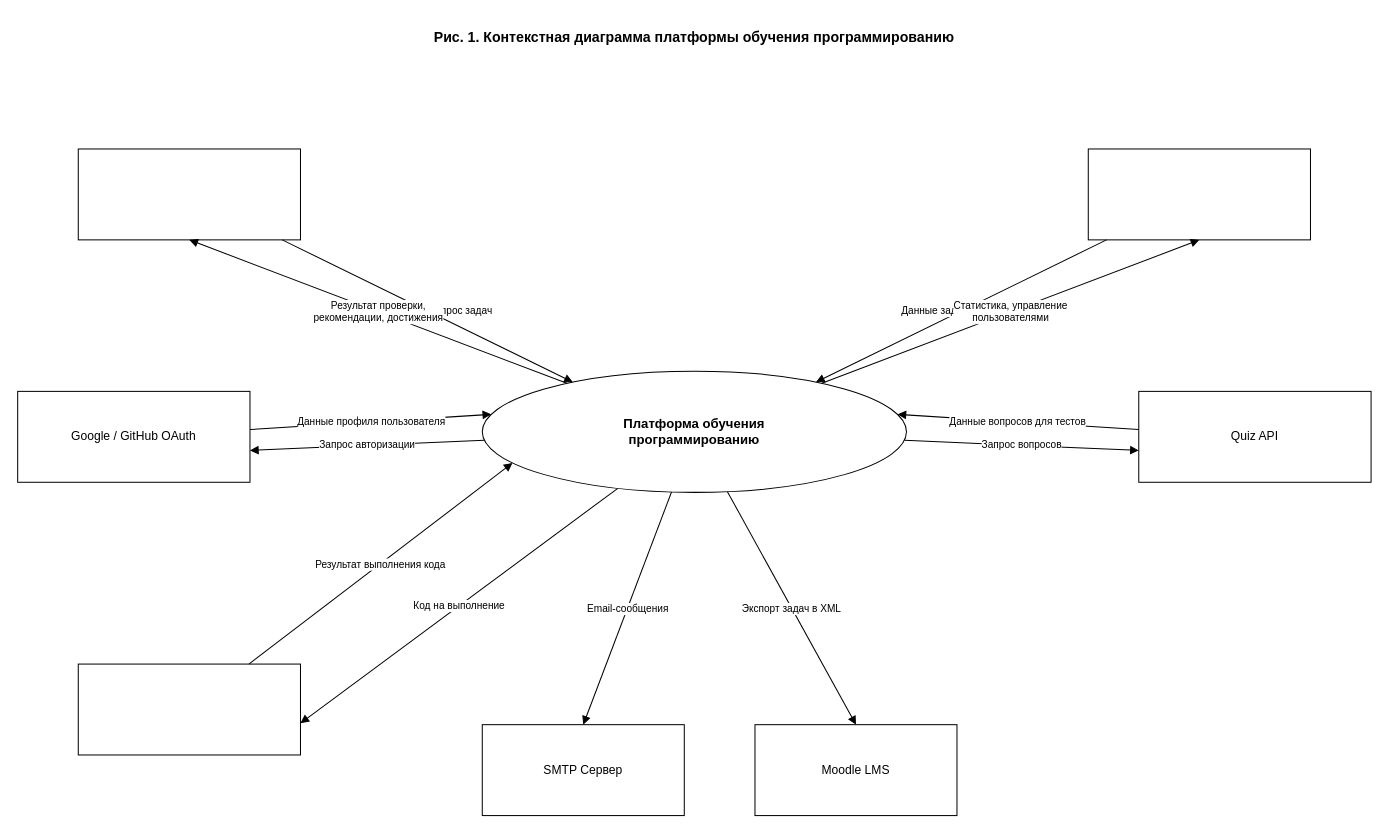
The diagram is 1389 pixels wide and 833 high, and some of its shapes have lost their labels. The centre of each missing label's shape, as x and y in pixels:
"Docker Engine" goes at point (188, 709).
"Администратор" goes at point (1198, 194).
"Студент / Пользователь" goes at point (188, 194).
